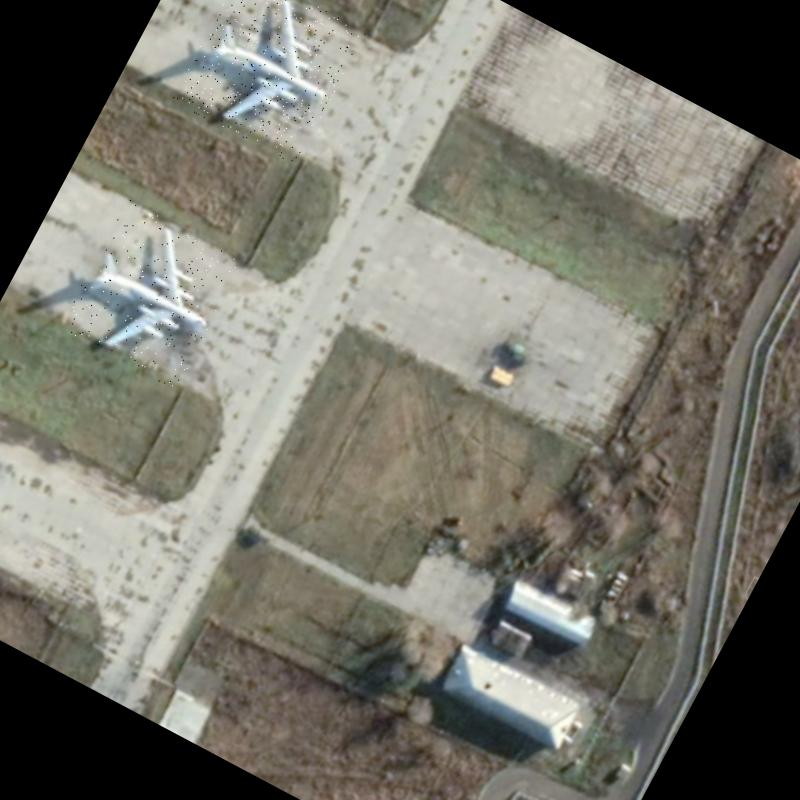A17: (57, 196, 245, 390), (171, 0, 366, 166)
